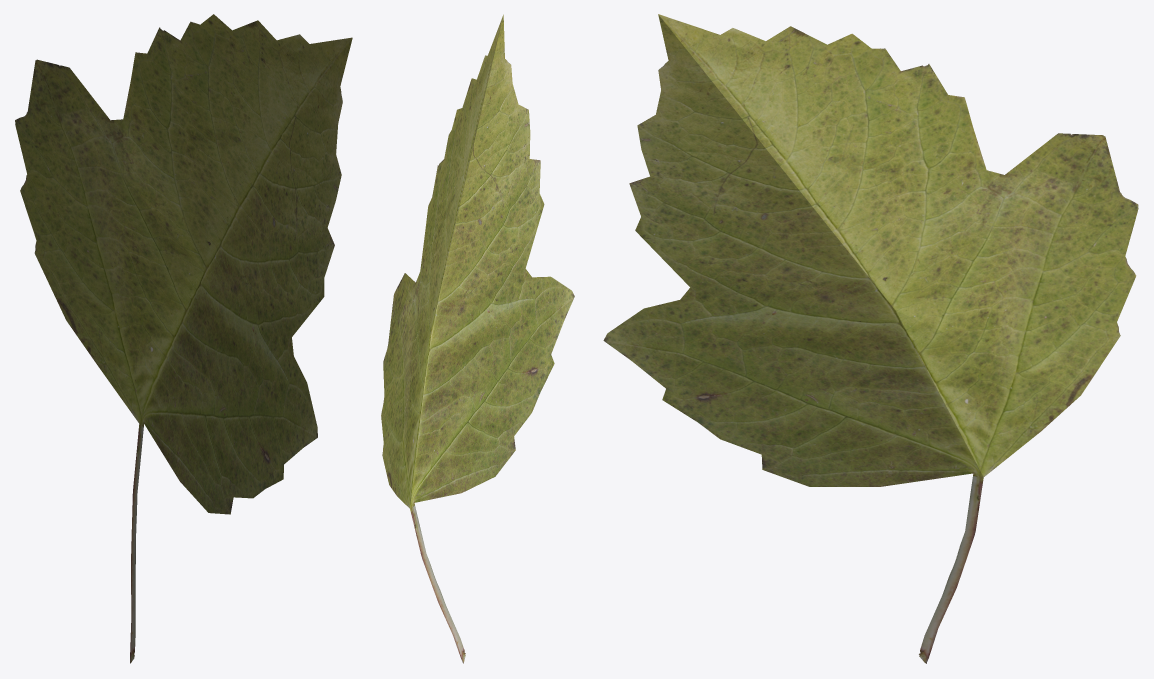
Rendered from leaf1_thin.obj.
3 renders of one model, left to right at view 1: azimuth 30°, elevation 25°; view 2: azimuth 150°, elevation 25°; view 3: azimuth 270°, elevation 25°, orthographic. The views are drawn at different scales.
Parts seen in each view (by area): view 1: Plane; view 2: Plane; view 3: Plane.
Part boxes in pixels (x1,y1,x2,y2): Plane: (15, 14, 352, 663); Plane: (381, 14, 574, 663); Plane: (603, 14, 1138, 663).
Size of the model in its own units: 0.087 by 0.6339 by 0.4452.
Materials: 1 (1 with a texture image).
